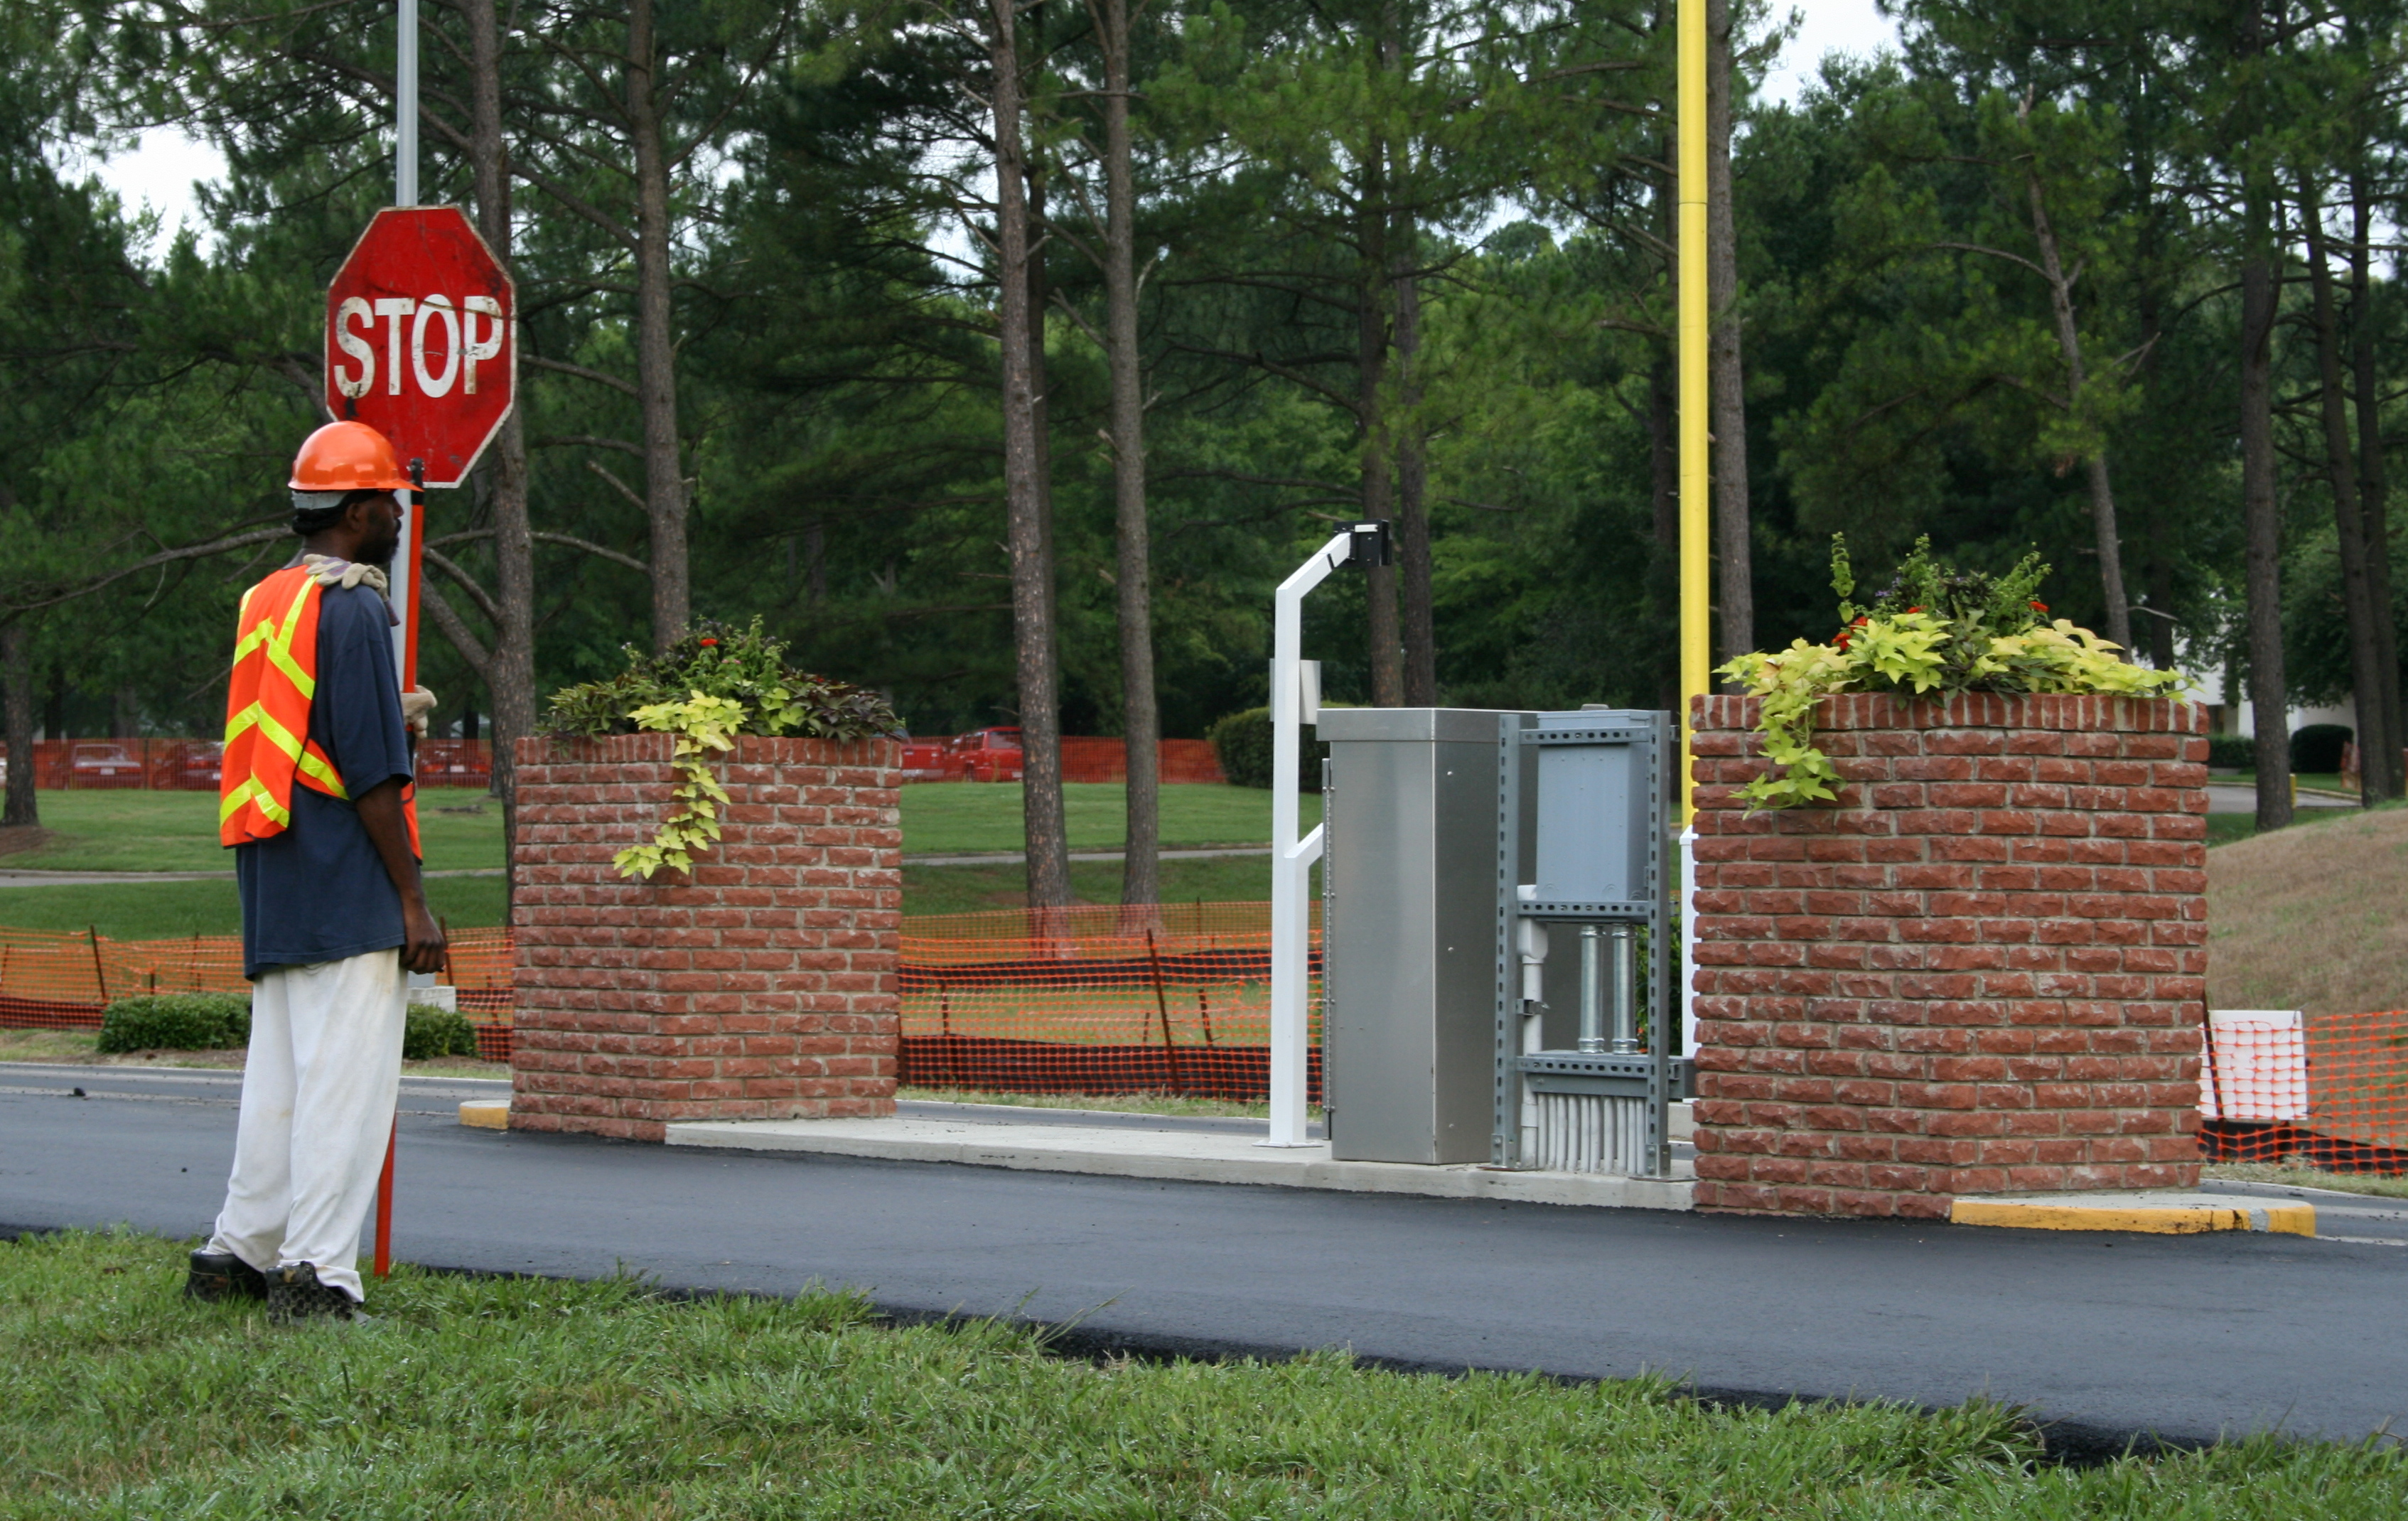Hard Hat: (275, 428, 426, 571)
Person: (162, 425, 455, 1318)
Vest: (203, 495, 394, 844)
